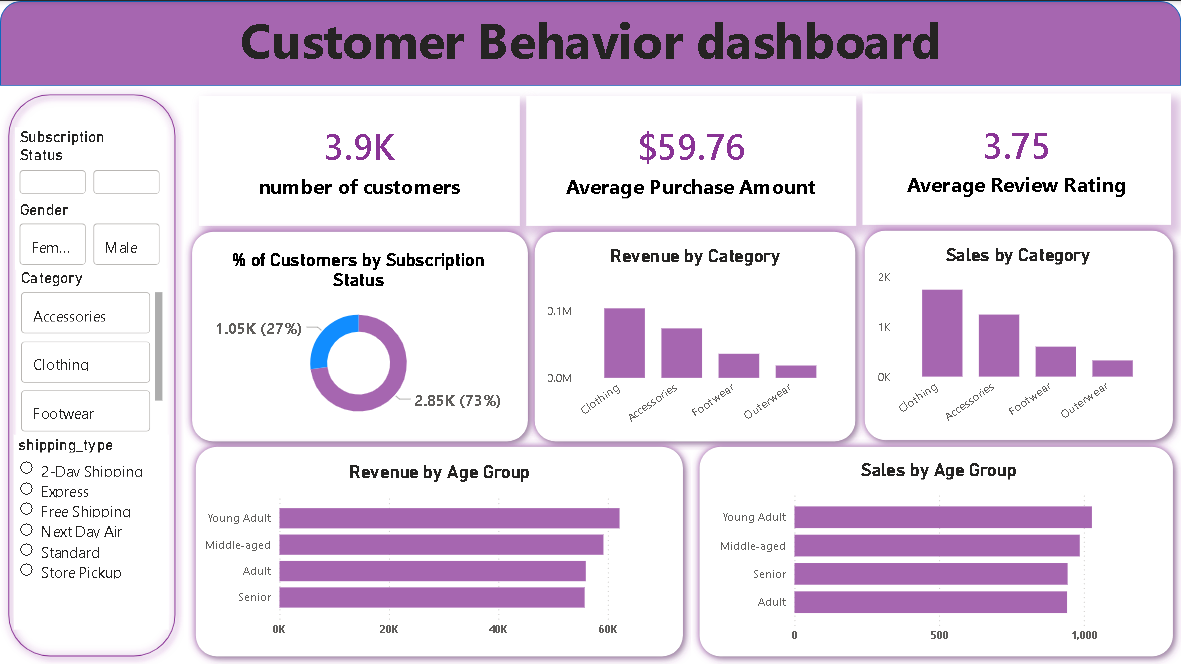

The dashboard page shown, as its layout file describes it:
{"tool":"powerbi","page":{"name":"Page 1","canvas":[1280,720],"ordinal":0},"visuals":[{"type":"cardVisual","fields":{"Data":["customer customers_behaviour.number of customers"]},"box":[215.4,103,348.2,140.9],"z":0},{"type":"cardVisual","fields":{"Data":["customer customers_behaviour.Average Purchase Amount"]},"box":[570.4,103,357.7,140.9],"z":1000},{"type":"cardVisual","fields":{"Data":["customer customers_behaviour.Average Review Rating"]},"box":[934.8,100.3,334.6,142.3],"z":2000},{"type":"shape","box":[0,0,1280.3,91.9],"z":3000},{"type":"textbox","box":[0,0,1280.3,91.9],"z":4000},{"type":"shape","box":[199.2,241.2,382.1,245.2],"z":5000},{"type":"donutChart","title":"% of Customers by Subscription Status","fields":{"Category":["customer customers_behaviour.subscription_status"],"Y":["CountNonNull(customer customers_behaviour.customer_id)"]},"box":[214.1,261.5,349.5,203.2],"z":6000},{"type":"shape","box":[570.4,241.2,365.8,245.2],"z":7000},{"type":"shape","box":[927.7,239.8,352.2,245.2],"z":8000},{"type":"clusteredColumnChart","title":"Revenue by Category","fields":{"Y":["Sum(customer customers_behaviour.purchase_amount)"],"Category":["customer customers_behaviour.category"]},"box":[589.3,257.4,327.9,214.1],"z":9000},{"type":"clusteredColumnChart","title":"Sales by Category","fields":{"Category":["customer customers_behaviour.category"],"Y":["CountNonNull(customer customers_behaviour.customer_id)"]},"box":[947,256.1,313,214.1],"z":10000},{"type":"shape","box":[0,92.1,199.2,627.3],"z":10001},{"type":"advancedSlicerVisual","title":"Subscription Status","fields":{"Values":["customer customers_behaviour.subscription_status"]},"box":[16.3,136.8,163.9,78.6],"z":10002},{"type":"advancedSlicerVisual","title":"Gender","fields":{"Values":["customer customers_behaviour.gender"]},"box":[16.3,215.4,163.9,75.9],"z":10003},{"type":"advancedSlicerVisual","title":"Category","fields":{"Values":["customer customers_behaviour.category"]},"box":[17.6,289.9,163.9,184.3],"z":10004},{"type":"listSlicer","fields":{"Values":["customer customers_behaviour.shipping_type"]},"box":[14.9,470.1,168,211.3],"z":10005},{"type":"shape","box":[203.2,474.2,546,245.2],"z":10007},{"type":"clusteredBarChart","title":"Revenue by Age Group","fields":{"Y":["Sum(customer customers_behaviour.purchase_amount)"],"Category":["customer customers_behaviour.age_group"]},"box":[218.1,491.8,516.2,207.3],"z":10008},{"type":"shape","box":[749.2,474.2,531.1,245.2],"z":10009},{"type":"clusteredBarChart","title":"Sales by Age Group","fields":{"Y":["CountNonNull(customer customers_behaviour.customer_id)"],"Category":["customer customers_behaviour.age_group"]},"box":[776.3,489.1,482.3,216.8],"z":10010}]}

Visuals, with their boxes in screenshot pixels (x1, y1, x2, y2), scaled from the page's 1280x720 canvas onto the 1181x664 screenshot:
cardVisual - customer customers_behaviour.number of customers: 199 95 520 225
cardVisual - customer customers_behaviour.Average Purchase Amount: 526 95 856 225
cardVisual - customer customers_behaviour.Average Review Rating: 862 92 1171 224
shape: 0 0 1180 85
textbox: 0 0 1180 85
shape: 184 222 536 449
"% of Customers by Subscription Status" donutChart: 198 241 520 429
shape: 526 222 864 449
shape: 856 221 1180 447
"Revenue by Category" clusteredColumnChart: 544 237 846 435
"Sales by Category" clusteredColumnChart: 874 236 1163 434
shape: 0 85 184 663
"Subscription Status" advancedSlicerVisual: 15 126 166 199
"Gender" advancedSlicerVisual: 15 199 166 269
"Category" advancedSlicerVisual: 16 267 167 437
listSlicer - customer customers_behaviour.shipping_type: 14 434 169 628
shape: 187 437 691 663
"Revenue by Age Group" clusteredBarChart: 201 454 678 645
shape: 691 437 1180 663
"Sales by Age Group" clusteredBarChart: 716 451 1161 651
